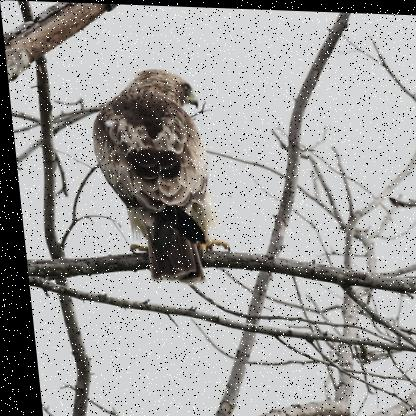Burung: (81, 65, 226, 281)
